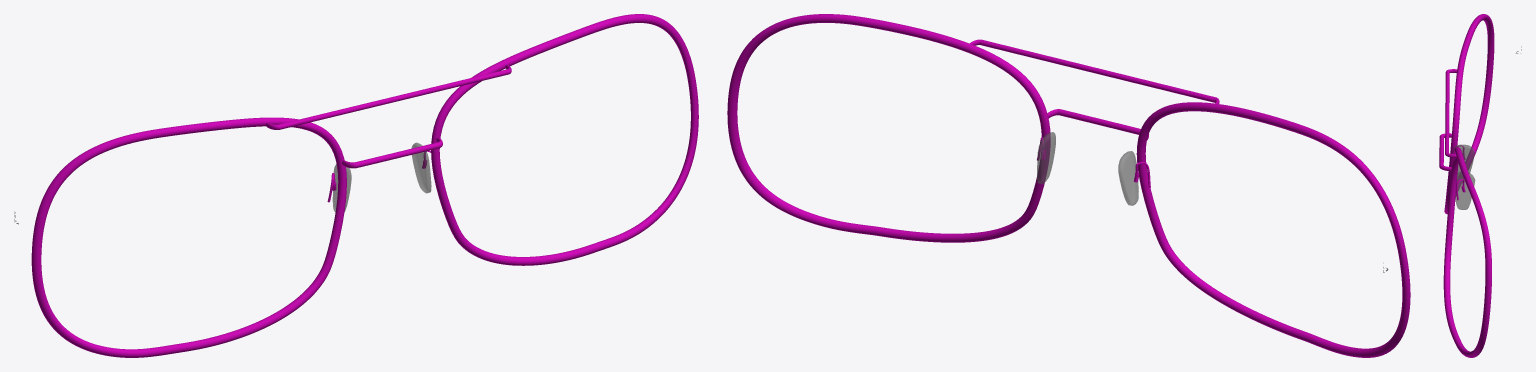
The model's file is custom-frame-3.gltf.
3 renders of one model, left to right at view 1: azimuth 30°, elevation 25°; view 2: azimuth 150°, elevation 25°; view 3: azimuth 270°, elevation 25°, orthographic. The views are drawn at different scales.
Visible parts, largest first — view 1: BezierCurve, Cylinder, Cylinder.002, Cylinder.001; view 2: BezierCurve, Cylinder, Cylinder.002, Cylinder.001; view 3: BezierCurve, Cylinder.002, Cylinder, Cylinder.001, BezierCurve.002.
Boxes of the visible parts, x1,y1,x2,y2 form: BezierCurve: (31,14,698,357); Cylinder: (266,64,511,129); Cylinder.002: (332,142,431,212); Cylinder.001: (342,137,442,168); BezierCurve: (727,14,1410,357); Cylinder: (970,39,1219,103); Cylinder.002: (1037,132,1138,205); Cylinder.001: (1047,109,1148,140); BezierCurve: (1443,14,1494,357); Cylinder.002: (1453,144,1475,209); Cylinder: (1445,69,1457,158); Cylinder.001: (1439,133,1451,171); BezierCurve.002: (1456,145,1465,200).
Bounding box in the file's own units: 0.9896 × 0.3105 × 0.1452.
